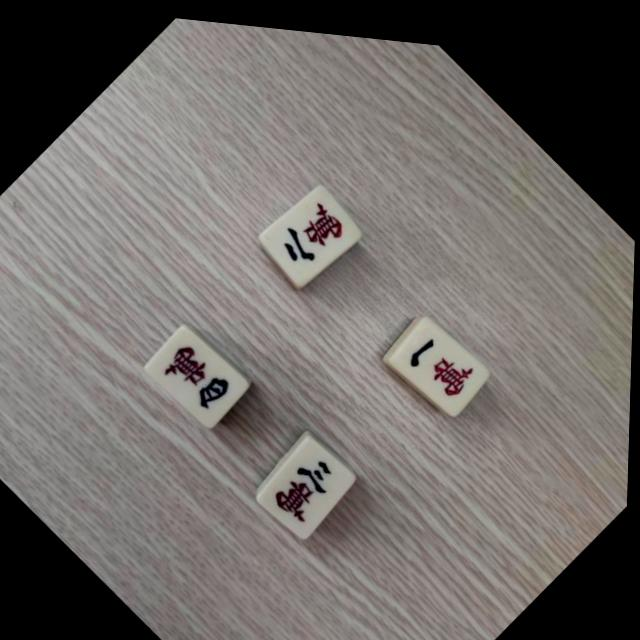sc1: (394, 307, 489, 405)
sc2: (266, 179, 359, 279)
sc3: (263, 430, 354, 528)
sc4: (152, 321, 249, 421)
